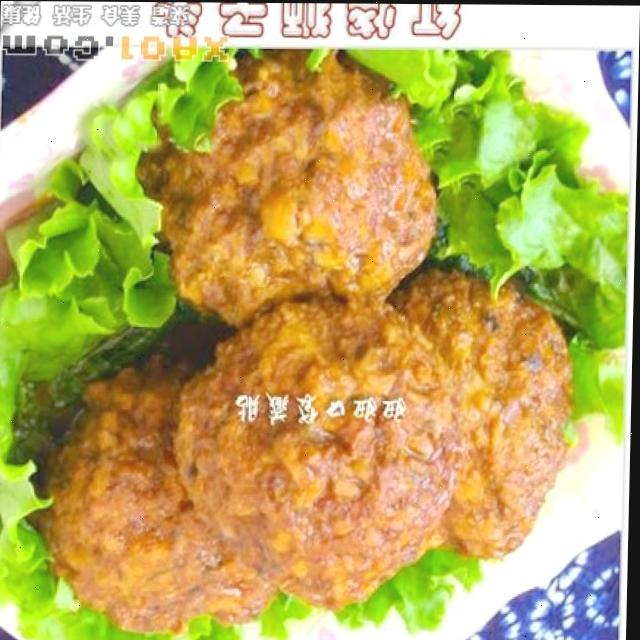猪肉菜式: (21, 58, 595, 627)
